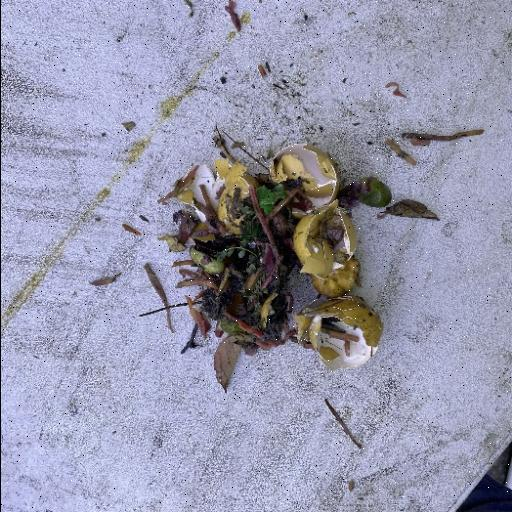Waste: (152, 133, 392, 371), (293, 293, 384, 370)
